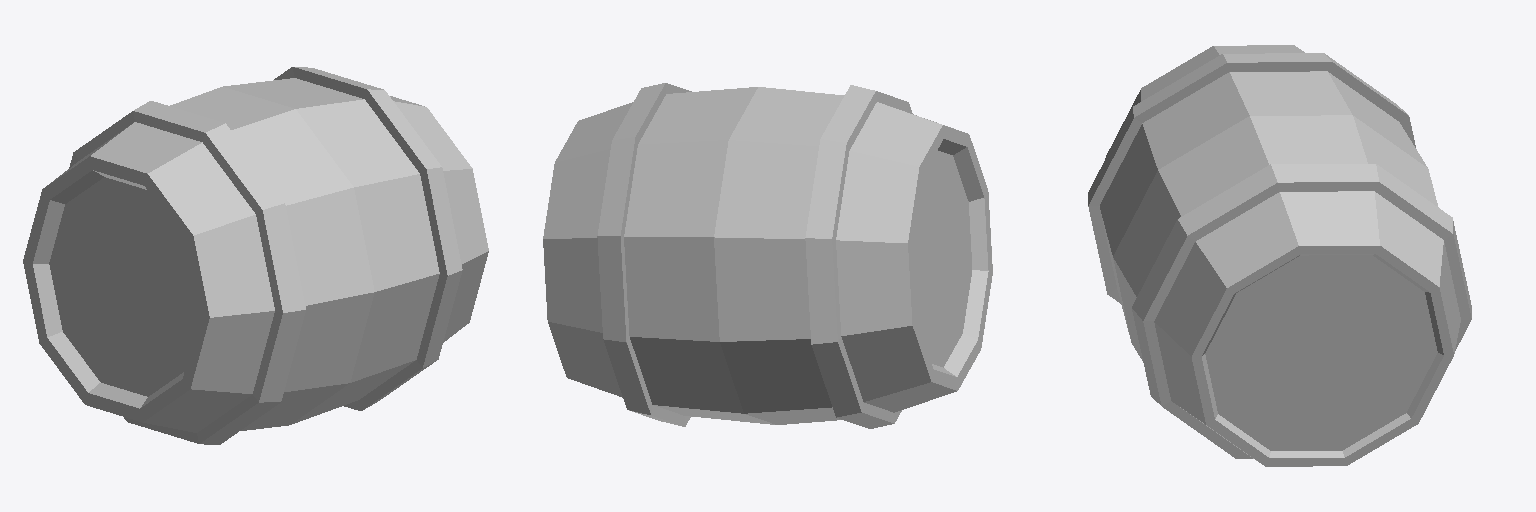
Rendered from barril_9.obj.
The picture shows the model from 3 angles: view 1: azimuth 30°, elevation 25°; view 2: azimuth 150°, elevation 25°; view 3: azimuth 270°, elevation 25°; orthographic projection.
Parts seen in each view (by area): view 1: Barril.008_Cylinder.051; view 2: Barril.008_Cylinder.051; view 3: Barril.008_Cylinder.051.
Boxes of the visible parts, x1,y1,x2,y2 form: Barril.008_Cylinder.051: [23, 67, 488, 444]; Barril.008_Cylinder.051: [543, 83, 992, 428]; Barril.008_Cylinder.051: [1088, 45, 1471, 466].
Bounding box in the file's own units: 1.14 × 0.951 × 0.9979.